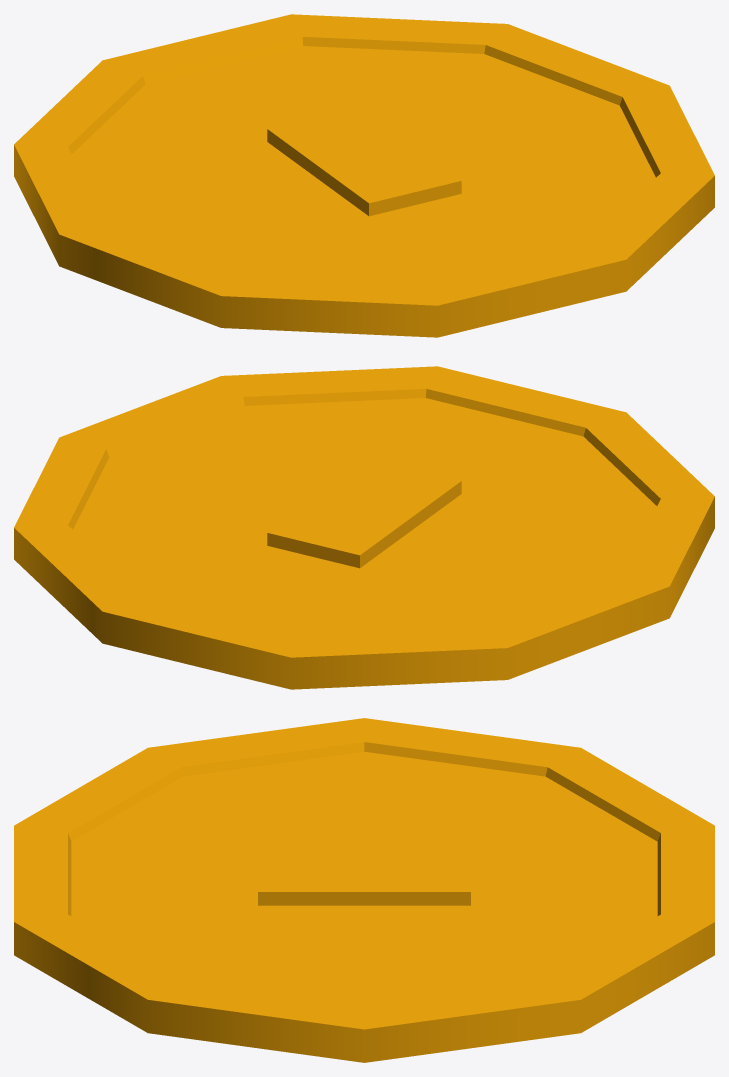
File: Coin.FBX
The picture shows the model from 3 angles, top to bottom: view 1: azimuth 30°, elevation 25°; view 2: azimuth 150°, elevation 25°; view 3: azimuth 270°, elevation 25°; orthographic projection. The views are drawn at different scales.
Visible parts, largest first — view 1: Cylinder002; view 2: Cylinder002; view 3: Cylinder002.
Boxes of the visible parts, x1,y1,x2,y2 form: Cylinder002: (14,14,714,337); Cylinder002: (14,366,714,689); Cylinder002: (14,718,714,1062).
Size of the model in its own units: 0.02 by 0.00116 by 0.019.
